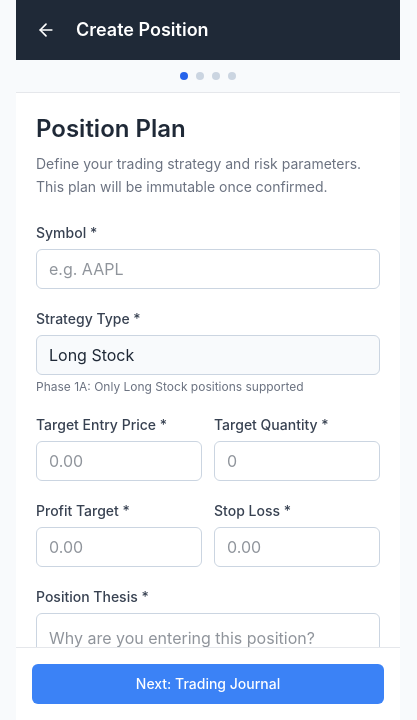
Test: PositionCreate - Phase 1A: Position Creation Flow › Step 1: Position Plan › should require non-empty position thesis
Fill required fields but leave thesis empty
In the field labelled "Symbol *": point(208, 268) left=36, top=248, right=380, bottom=288, type "AAPL"
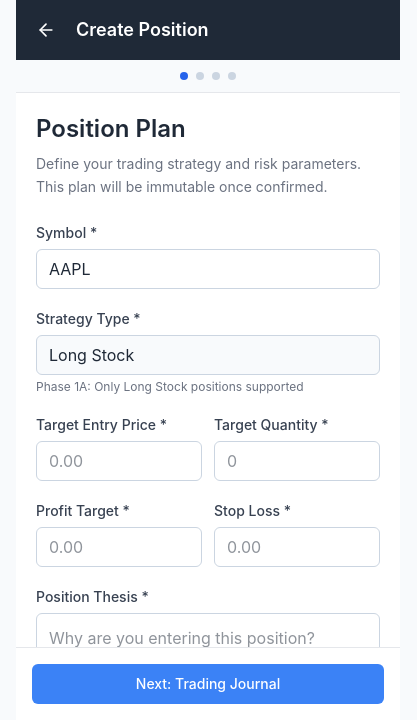
In the number field labelled "Target Entry Price *": point(119, 460) left=36, top=440, right=202, bottom=480, type "150"
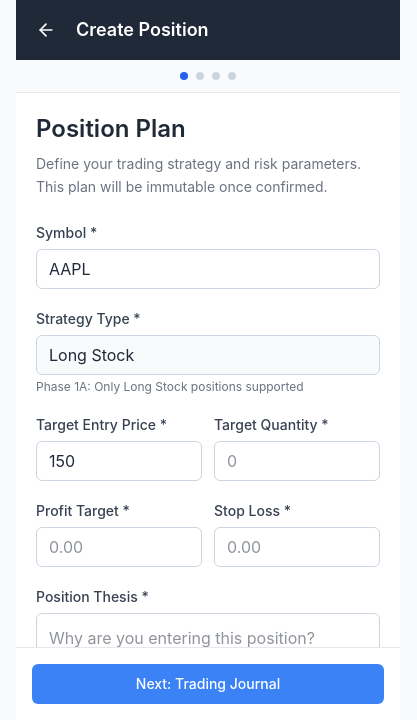
In the number field labelled "Target Quantity *": point(297, 460) left=214, top=440, right=380, bottom=480, type "100"
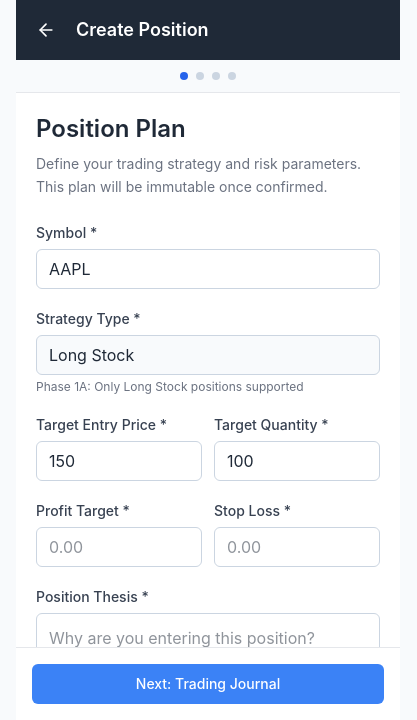
In the number field labelled "Profit Target *": point(119, 546) left=36, top=526, right=202, bottom=566, type "165"
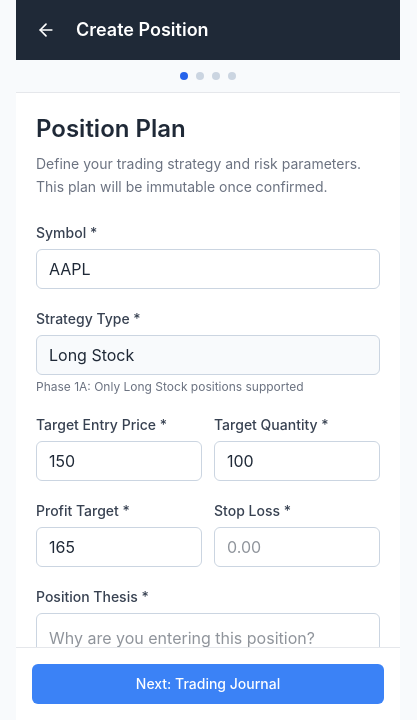
In the number field labelled "Stop Loss *": point(297, 546) left=214, top=526, right=380, bottom=566, type "135"
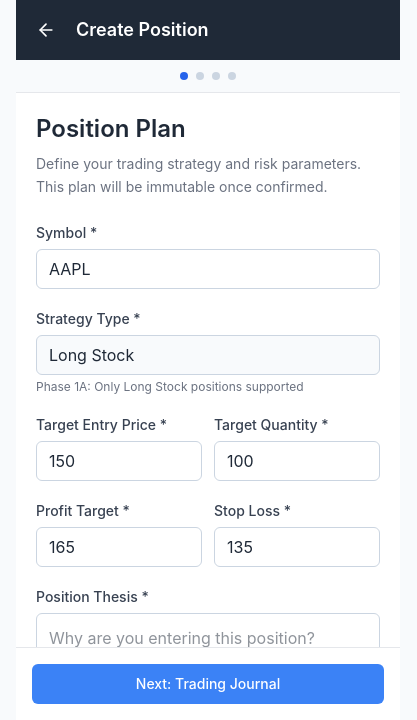
Click the button "Next: Trading Journal": point(208, 684) left=32, top=664, right=384, bottom=704
(page scrolled)
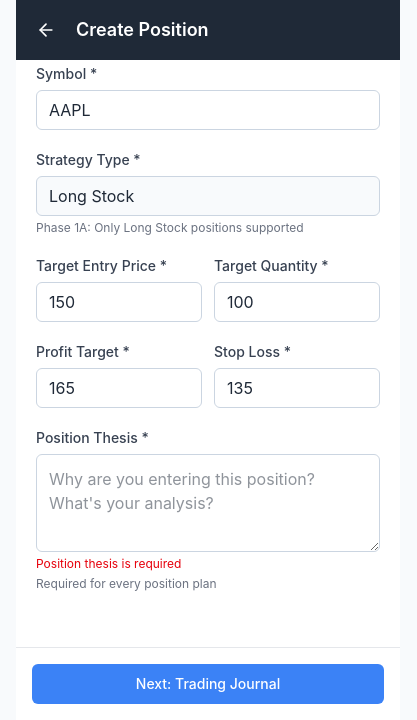
expect the text "Position thesis is required" is shown: met, box left=36, top=556, right=181, bottom=570
